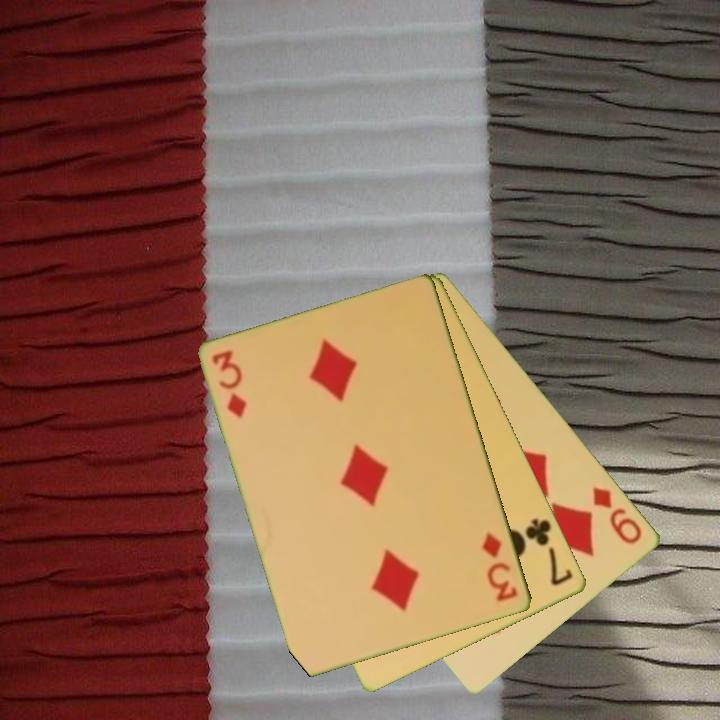3d: (479, 529, 521, 605), (209, 347, 250, 422)
7c: (522, 514, 576, 589)
9d: (589, 483, 646, 548)
